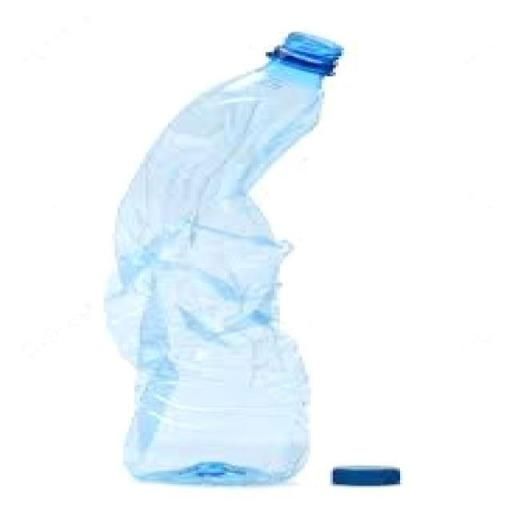plastic: (97, 23, 345, 484)
